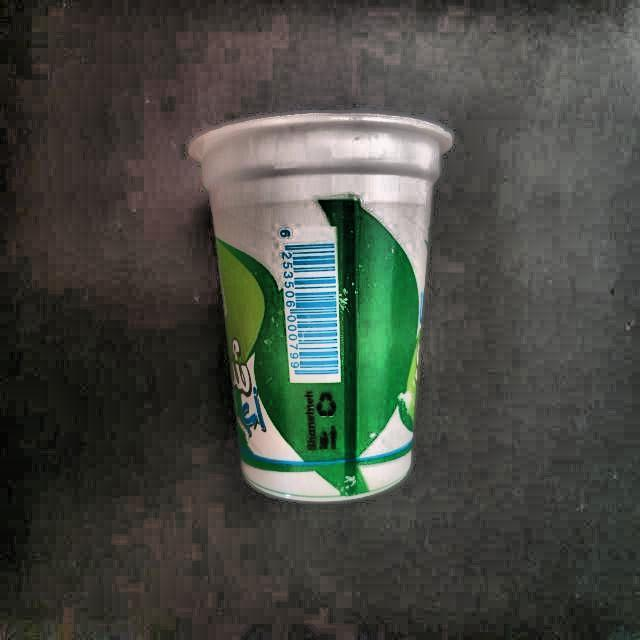plastic: (188, 113, 453, 506)
